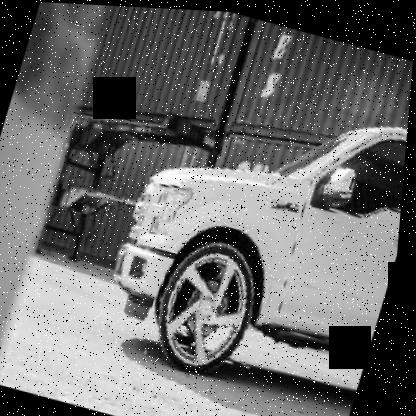not_emergency: (73, 60, 412, 415)
